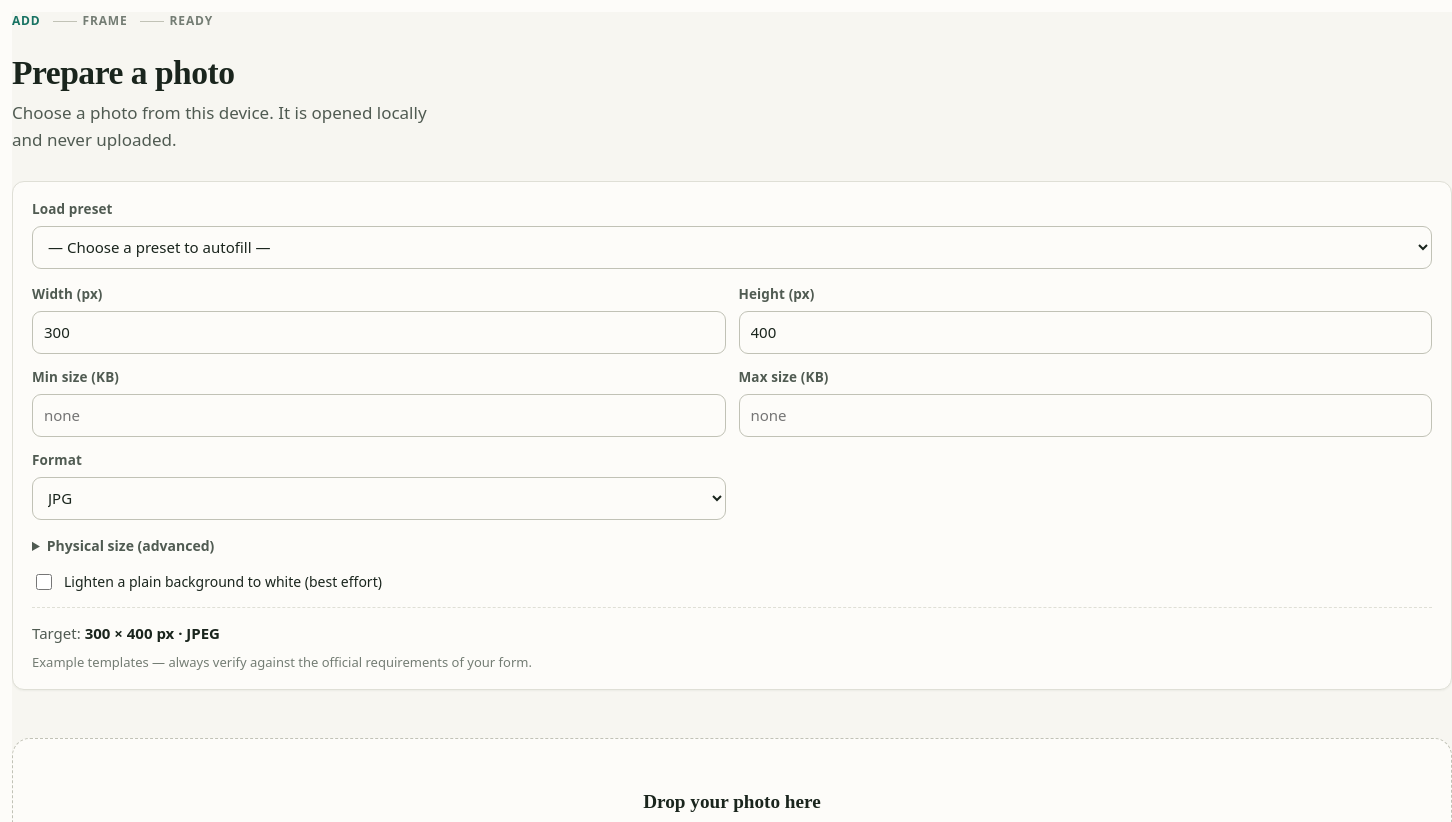
it: PhotoView flow › reflects the white-background option in the target summary
This screenshot has width=1452, height=822.
Check: the text "white bg" is not shown
Click the checkbox labelled "Lighten a plain background to white (best effort)" at (44, 582), box [36,574,52,590]
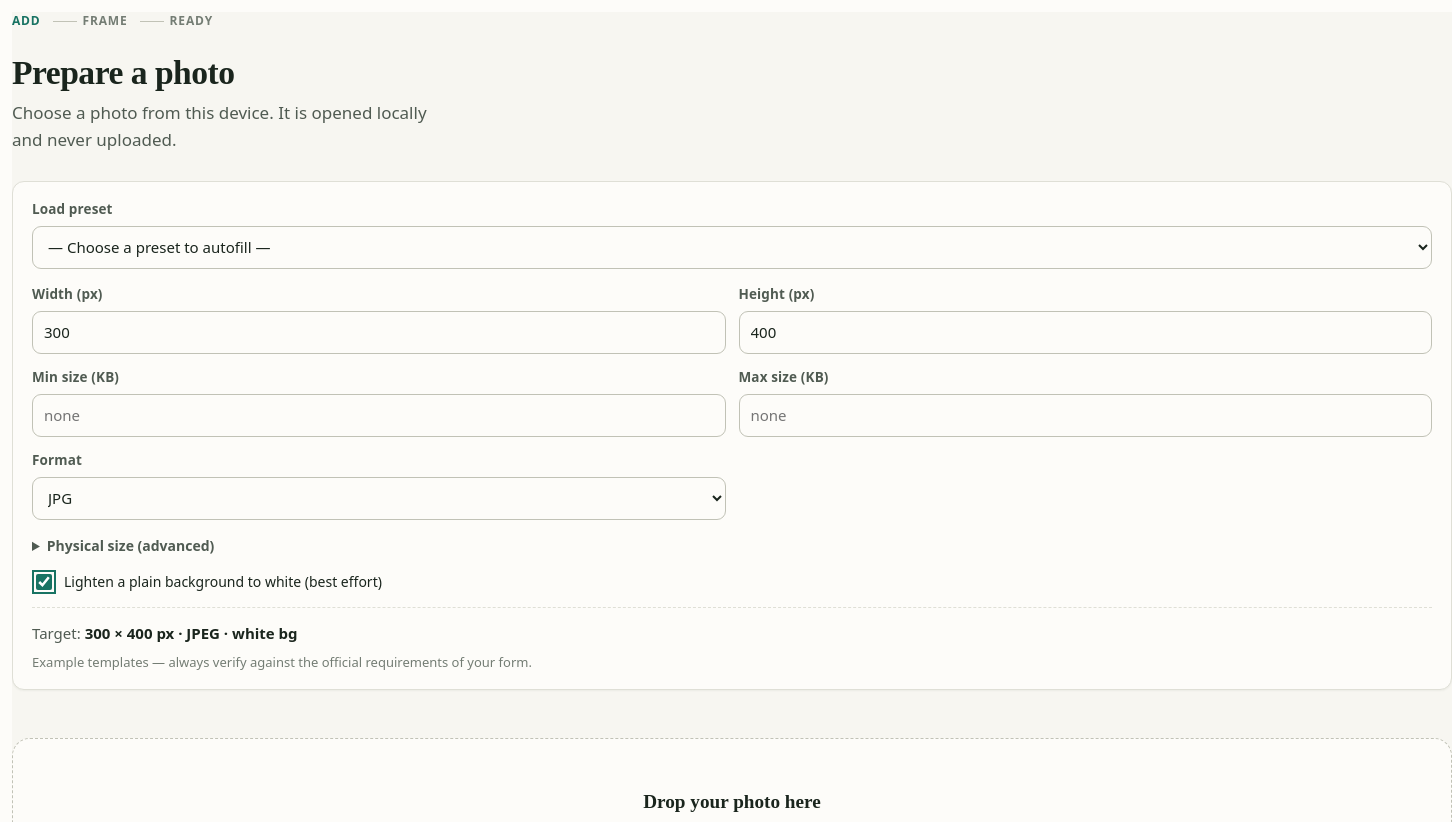
Check: the text "Target: 300 × 400 px · JPEG · white bg" is shown, box [32,607,1432,646]
